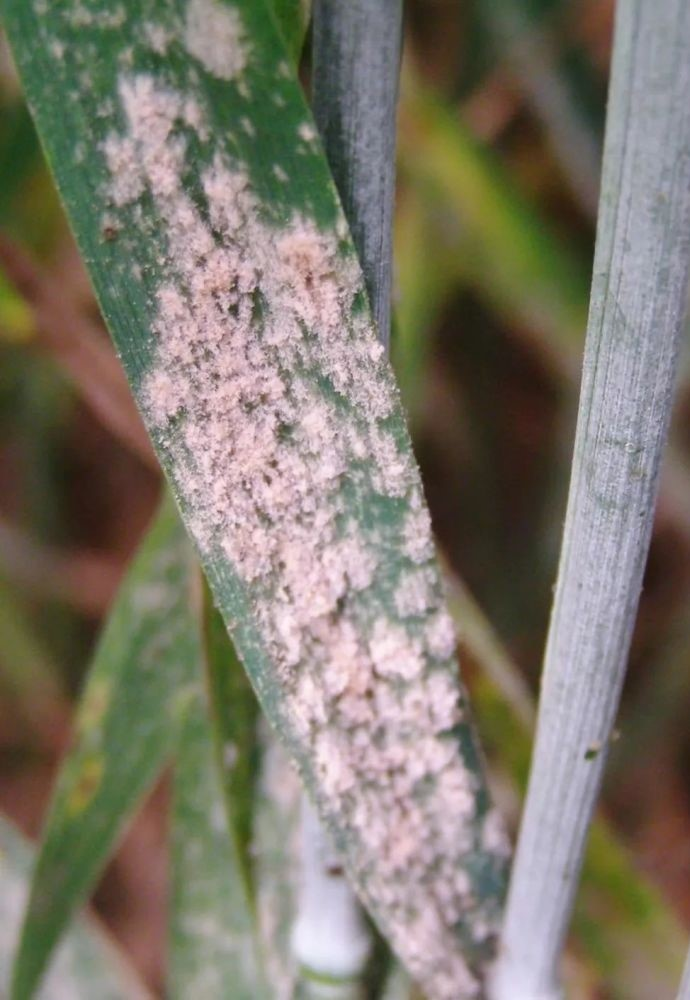Powdery Mildew: (67, 93, 522, 854)
